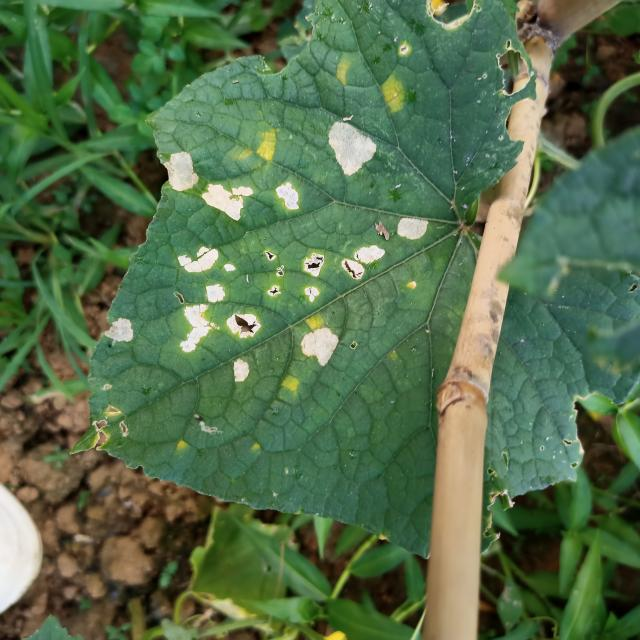disease_cucumber: (162, 238, 388, 390), (314, 116, 383, 183), (200, 182, 257, 220), (100, 309, 140, 356), (236, 124, 280, 166), (158, 149, 200, 191), (377, 73, 414, 116), (272, 180, 306, 217), (393, 217, 431, 249), (328, 56, 357, 92), (280, 373, 306, 396), (303, 313, 327, 330)
